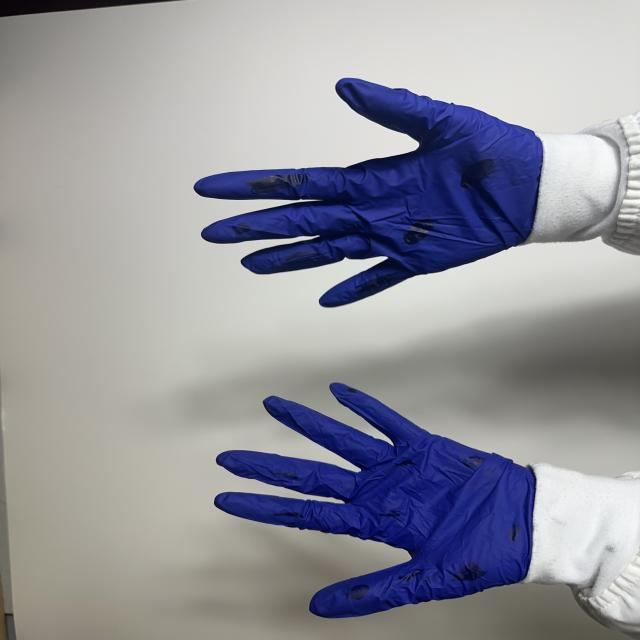gloves_contaminated: (195, 79, 542, 307), (215, 383, 535, 618)
